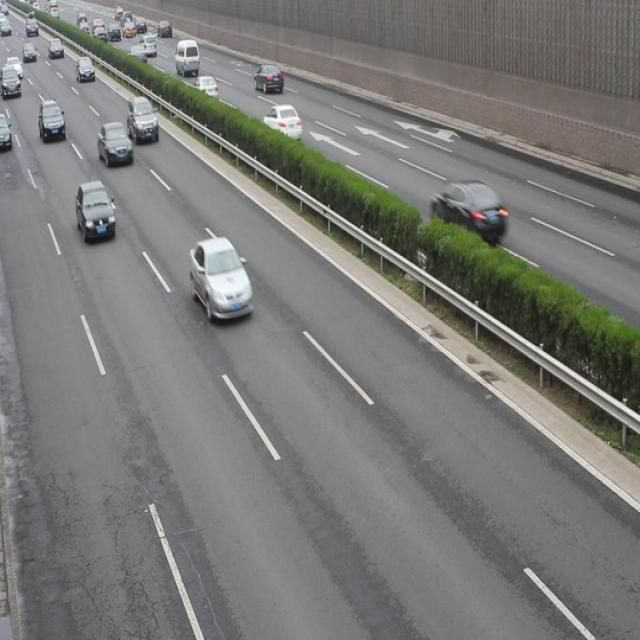car: (189, 234, 253, 325), (429, 178, 505, 245), (76, 179, 116, 243), (98, 119, 134, 170), (261, 104, 301, 144), (127, 94, 159, 144), (38, 98, 66, 145), (253, 63, 284, 95), (188, 74, 218, 106)
